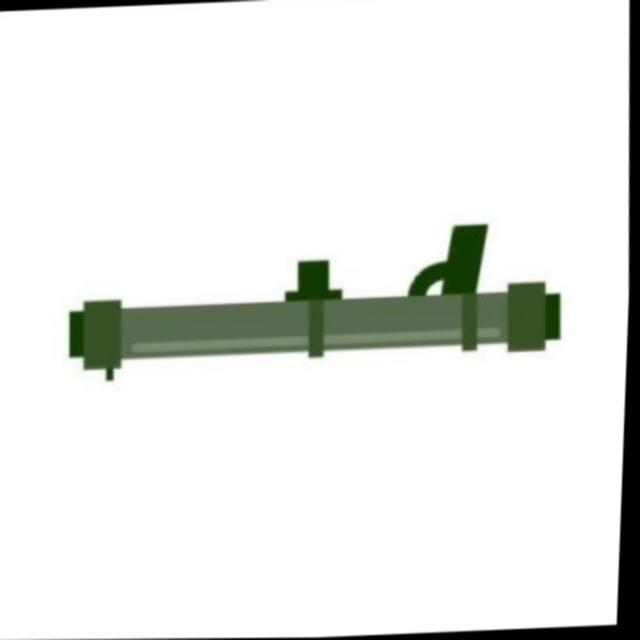weapon: (65, 218, 568, 382)
